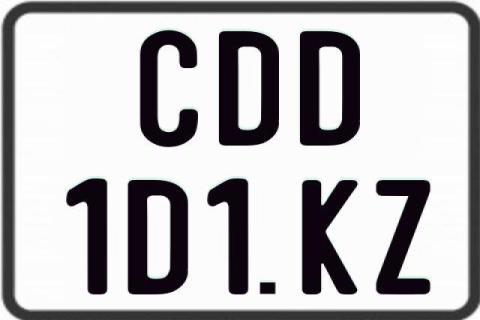0: (207, 178, 251, 298), (66, 176, 107, 296)
C: (138, 30, 200, 150)
D: (216, 30, 282, 150), (128, 178, 189, 294), (299, 29, 360, 144)
K: (300, 178, 359, 296)
Z: (376, 180, 432, 296)
